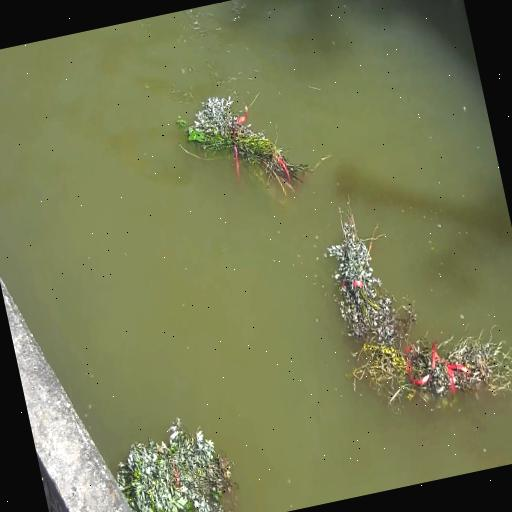twig: (306, 180, 424, 354), (174, 76, 316, 212), (345, 309, 512, 421), (107, 407, 243, 512)
